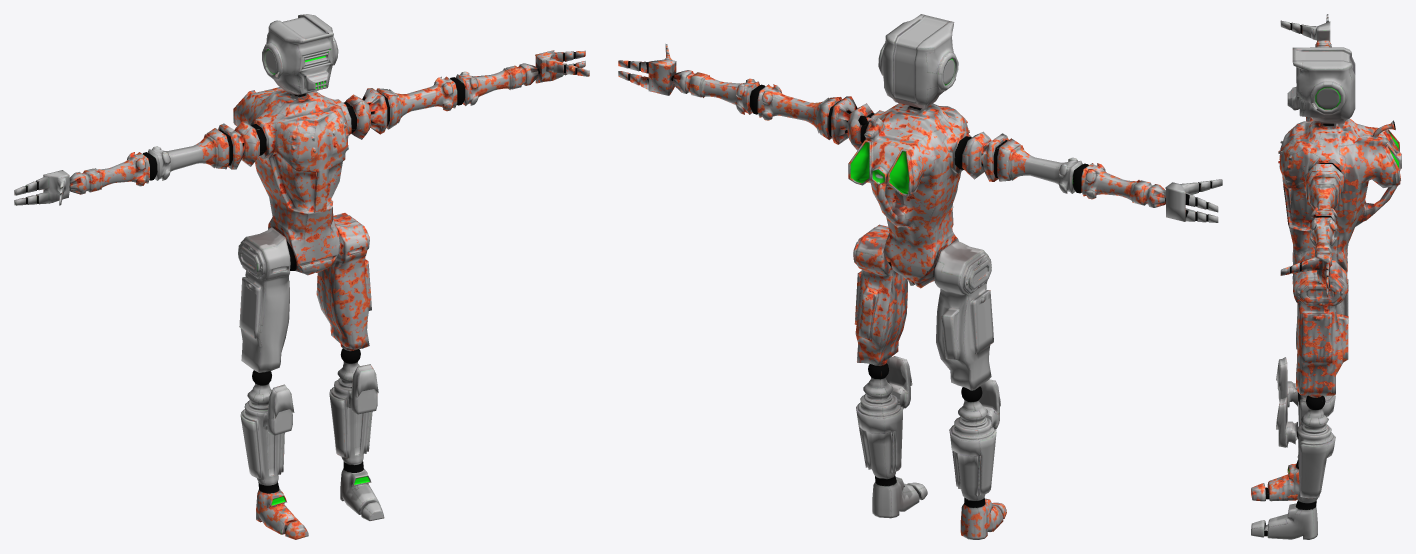
File: long armed robot.fbx
The picture shows the model from 3 angles, left to right: view 1: azimuth 30°, elevation 25°; view 2: azimuth 150°, elevation 25°; view 3: azimuth 270°, elevation 25°; orthographic projection. The views are drawn at different scales.
Parts seen in each view (by area): view 1: Head; view 2: Head; view 3: Head.
Boxes of the visible parts, left/top/right/bottom form: Head: left=14, top=14, right=589, bottom=539; Head: left=618, top=14, right=1222, bottom=539; Head: left=1251, top=14, right=1401, bottom=539.
Bounding box in the file's own units: 1035 × 825 × 245.
1 material, 1 textured.
